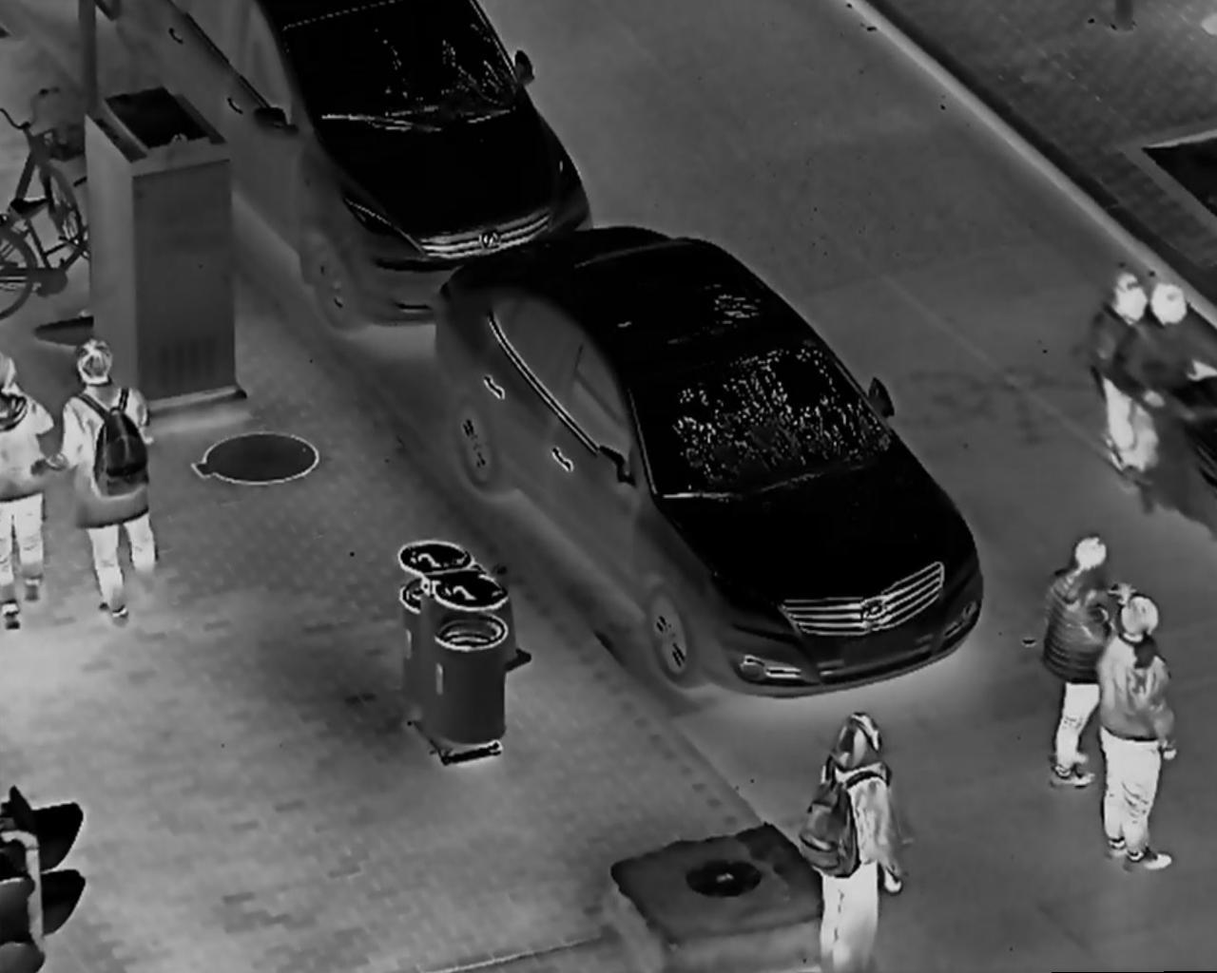person: (56, 329, 166, 631), (799, 706, 909, 973), (1095, 585, 1183, 887), (1039, 528, 1130, 798), (1117, 281, 1217, 515), (1086, 268, 1152, 473)
